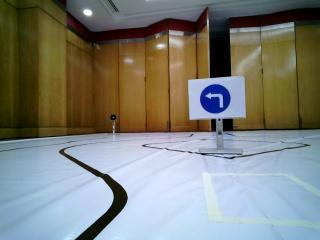left: (189, 81, 245, 116)
